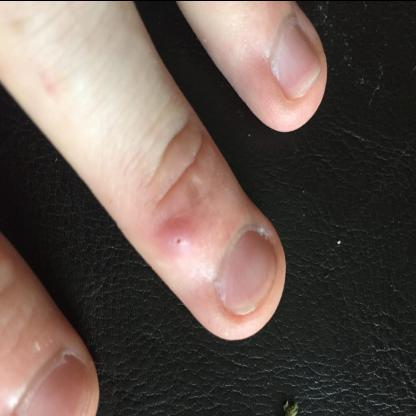Fire ant: (150, 215, 200, 263)
